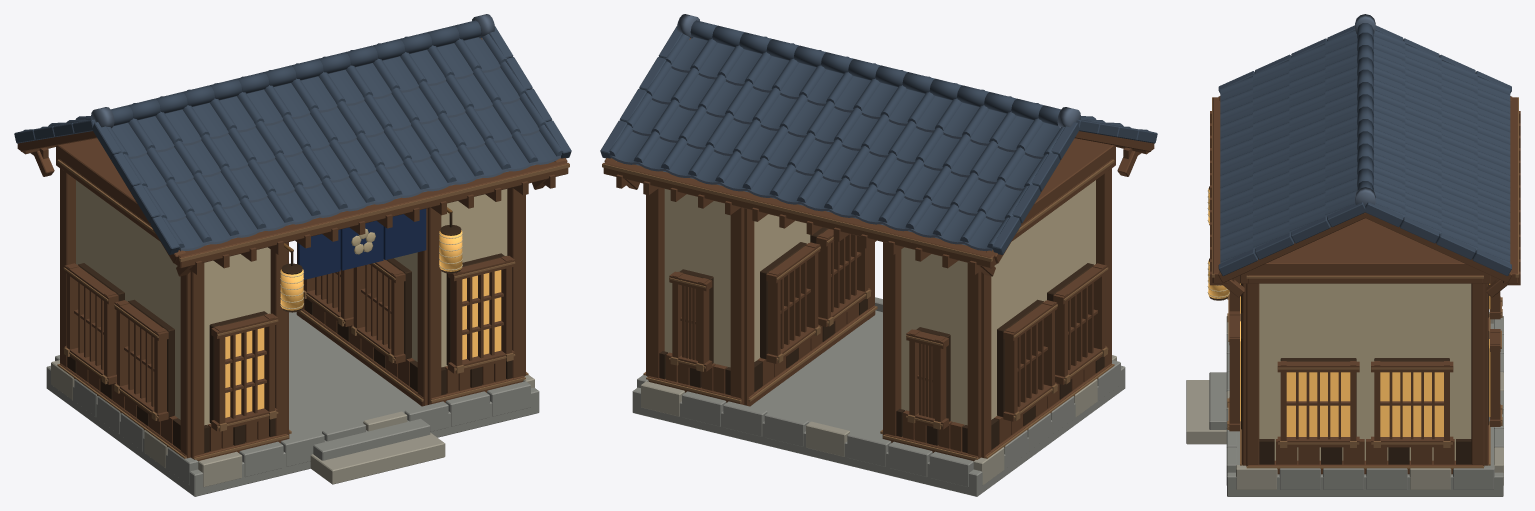
The picture shows the model from 3 angles, left to right: view 1: azimuth 30°, elevation 25°; view 2: azimuth 150°, elevation 25°; view 3: azimuth 270°, elevation 25°; orthographic projection. The views are drawn at different scales.
Visible parts, largest first — view 1: compact_teleport_gate_geometry, compact_teleport_gate_geometry ceramic; view 2: compact_teleport_gate_geometry, compact_teleport_gate_geometry ceramic; view 3: compact_teleport_gate_geometry, compact_teleport_gate_geometry ceramic.
Part boxes in pixels (box(x1,y1,x2,y2)): compact_teleport_gate_geometry: box(17, 38, 569, 496); compact_teleport_gate_geometry ceramic: box(14, 14, 571, 254); compact_teleport_gate_geometry: box(602, 38, 1154, 496); compact_teleport_gate_geometry ceramic: box(600, 14, 1157, 254); compact_teleport_gate_geometry: box(1186, 96, 1520, 496); compact_teleport_gate_geometry ceramic: box(1218, 14, 1511, 275).
Size of the model in its own units: 1.04 by 0.8389 by 0.8059.
